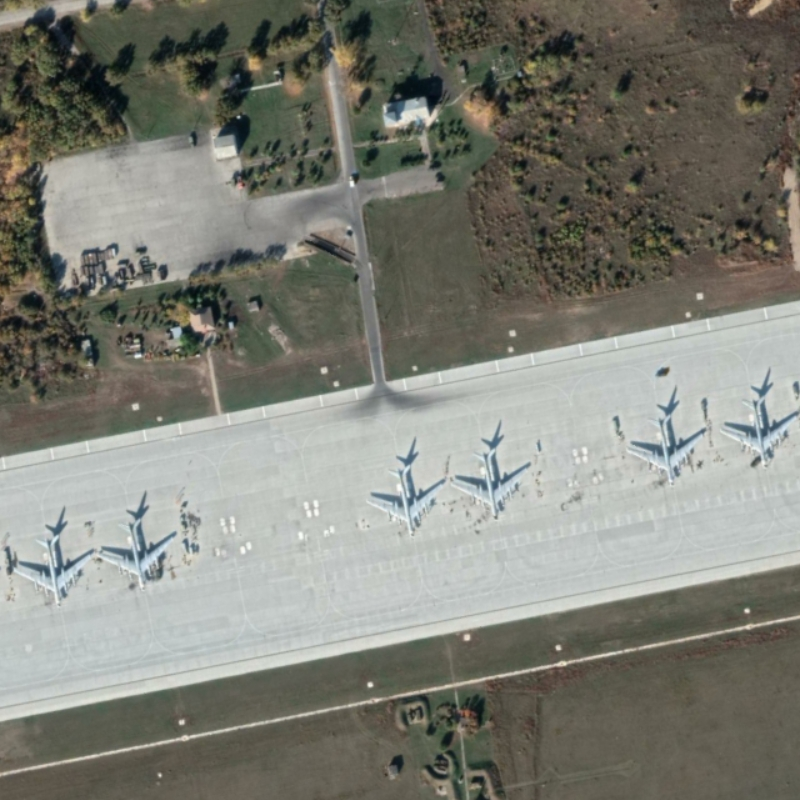A17: (10, 529, 96, 612), (96, 514, 180, 597), (446, 445, 534, 522), (623, 411, 707, 490), (364, 463, 448, 542), (714, 394, 799, 470)
